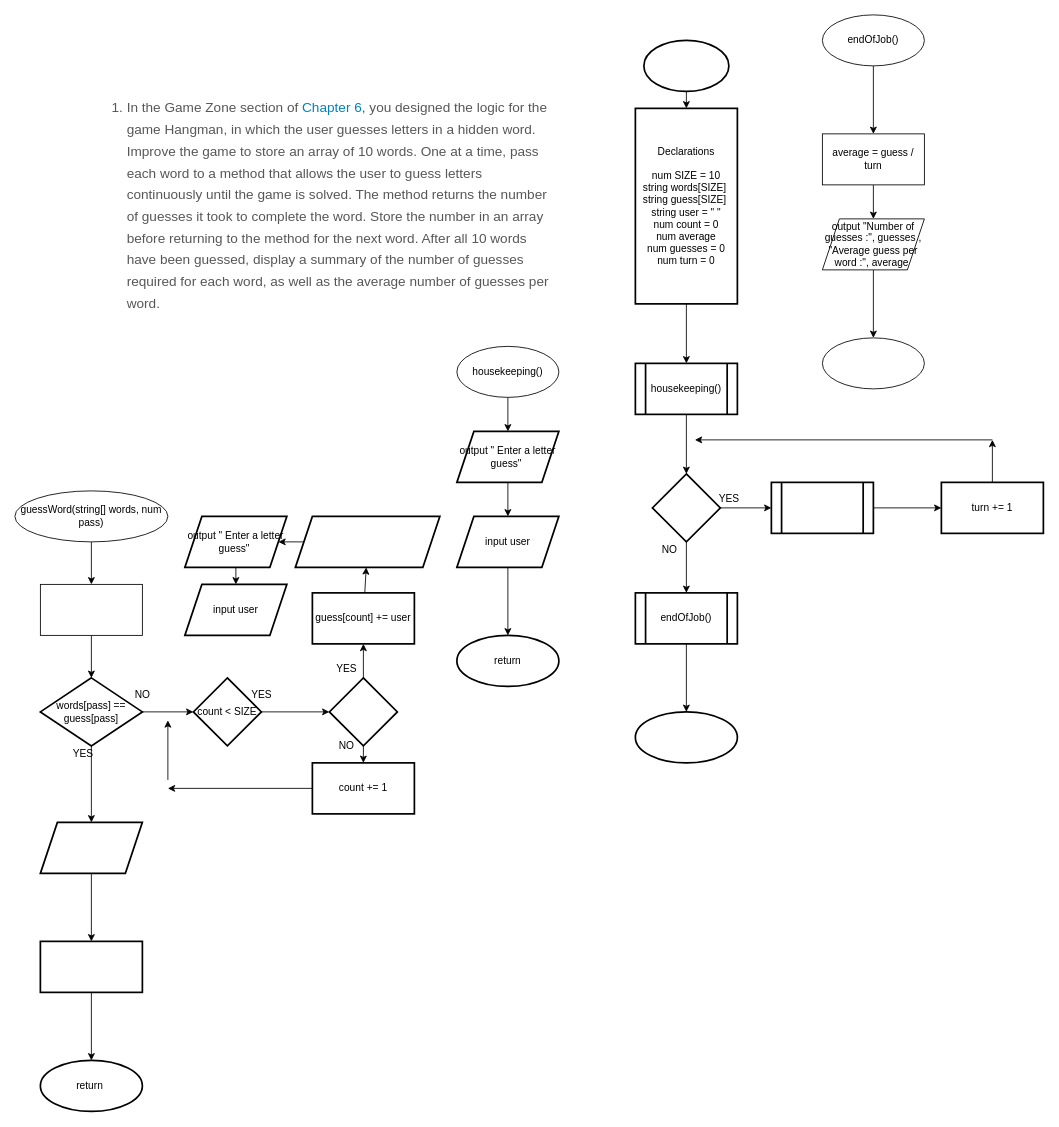
Image size: 1059x1127. Some labels were removed from this diagram. Each missing label, with the box of its shape:
count = 0: (40, 584, 142, 635)
guesses += 1: (39, 940, 143, 993)
guessWord(words, turn): (770, 481, 874, 534)
output "you guessed correctly, here's what you have so far ", guess: (294, 515, 440, 568)
output "You guessed the word!": (39, 821, 143, 874)
start: (643, 39, 729, 92)
stop: (634, 711, 738, 763)
turn < SIZE: (651, 473, 721, 542)
user == words[pass]: (328, 677, 398, 746)
